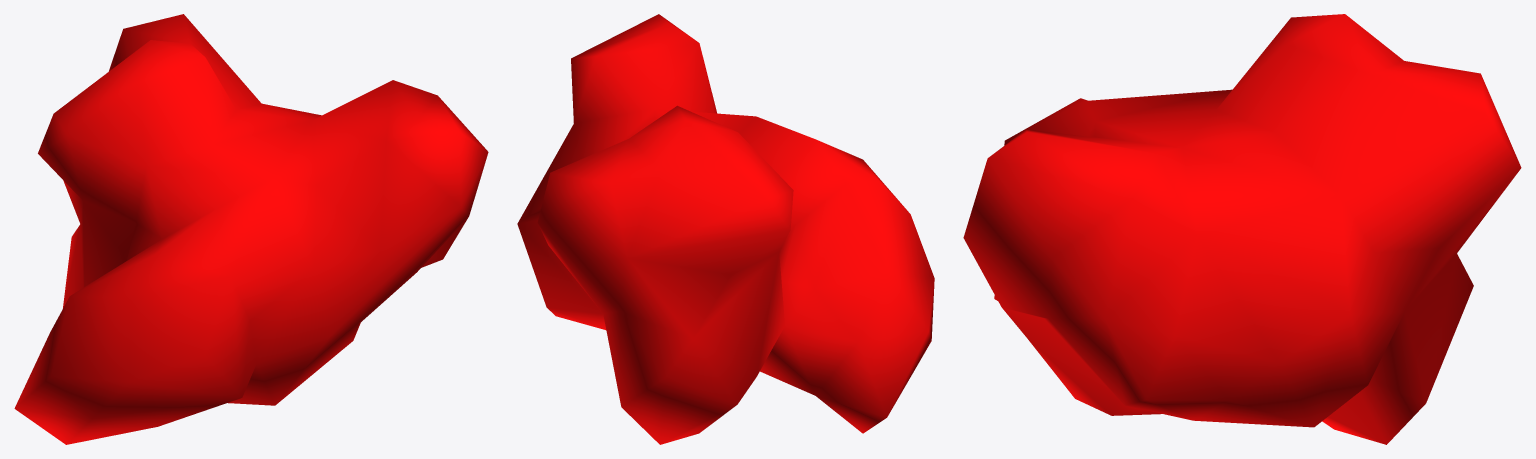
File: BloodPlasma_Albumin_1ao6_0_1_0.dae
The picture shows the model from 3 angles, left to right: view 1: azimuth 30°, elevation 25°; view 2: azimuth 150°, elevation 25°; view 3: azimuth 270°, elevation 25°; orthographic projection. The views are drawn at different scales.
Parts seen in each view (by area): view 1: SerumAlbuminMiin; view 2: SerumAlbuminMiin; view 3: SerumAlbuminMiin.
Boxes of the visible parts, x1=… form: SerumAlbuminMiin: x1=14, y1=14, x2=488, y2=444; SerumAlbuminMiin: x1=517, y1=14, x2=934, y2=444; SerumAlbuminMiin: x1=963, y1=14, x2=1521, y2=444.
Bounding box in the file's own units: 82.23 × 65.52 × 77.71.
